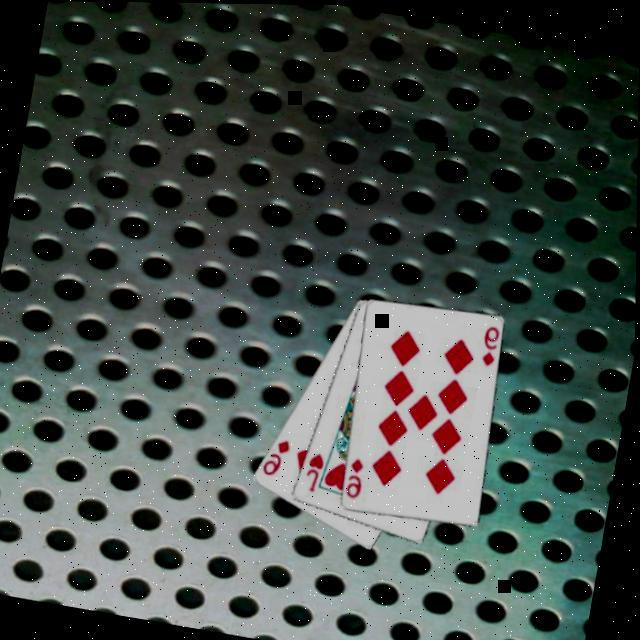9D: (260, 431, 297, 479), (345, 452, 372, 499), (478, 319, 505, 366)
JH: (302, 446, 330, 493)
